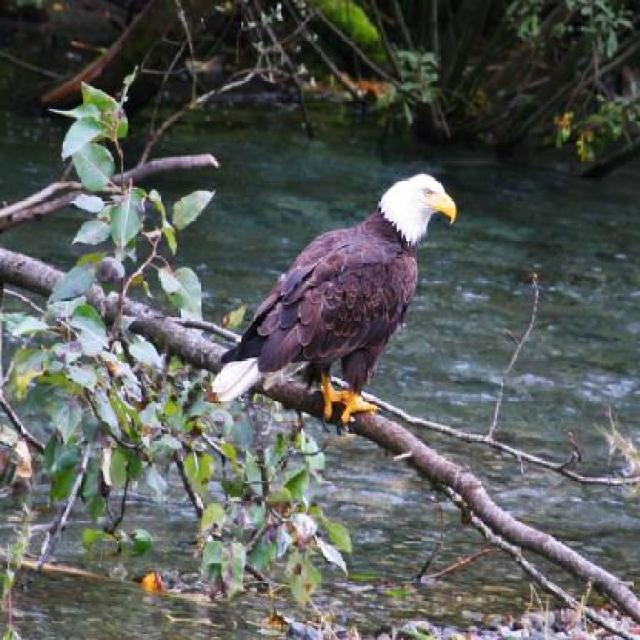Eagle: (214, 172, 456, 427)
